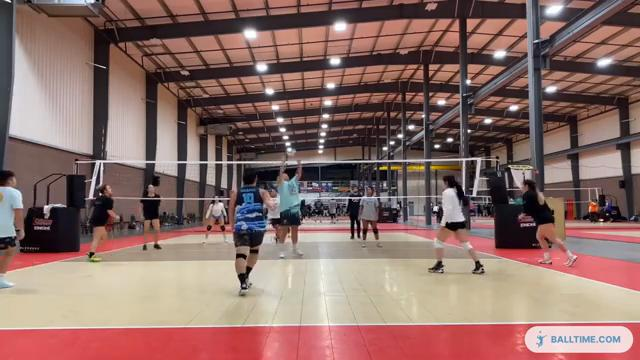Player: (428, 175, 484, 273), (229, 171, 270, 295), (520, 179, 576, 265), (0, 170, 24, 288), (88, 184, 118, 261), (359, 187, 381, 247), (140, 184, 160, 249), (203, 196, 227, 243), (265, 188, 279, 243), (347, 185, 361, 239)
Set: (272, 154, 306, 260)
ball: (286, 147, 299, 159)
